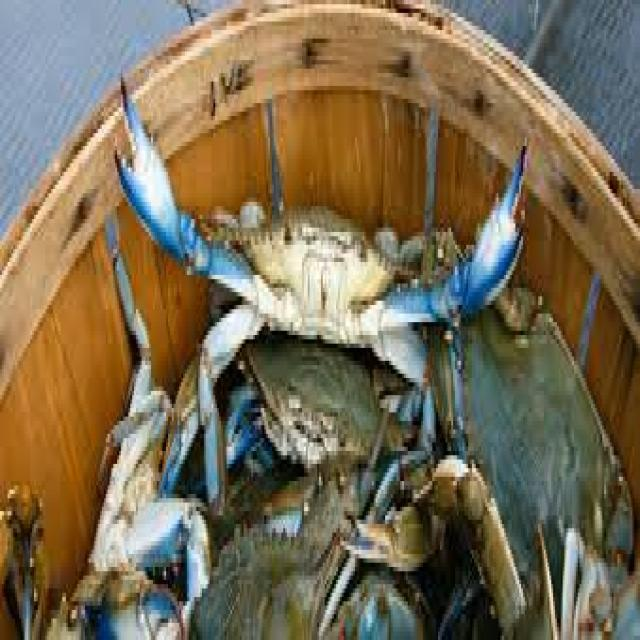crab: (162, 129, 400, 430)
